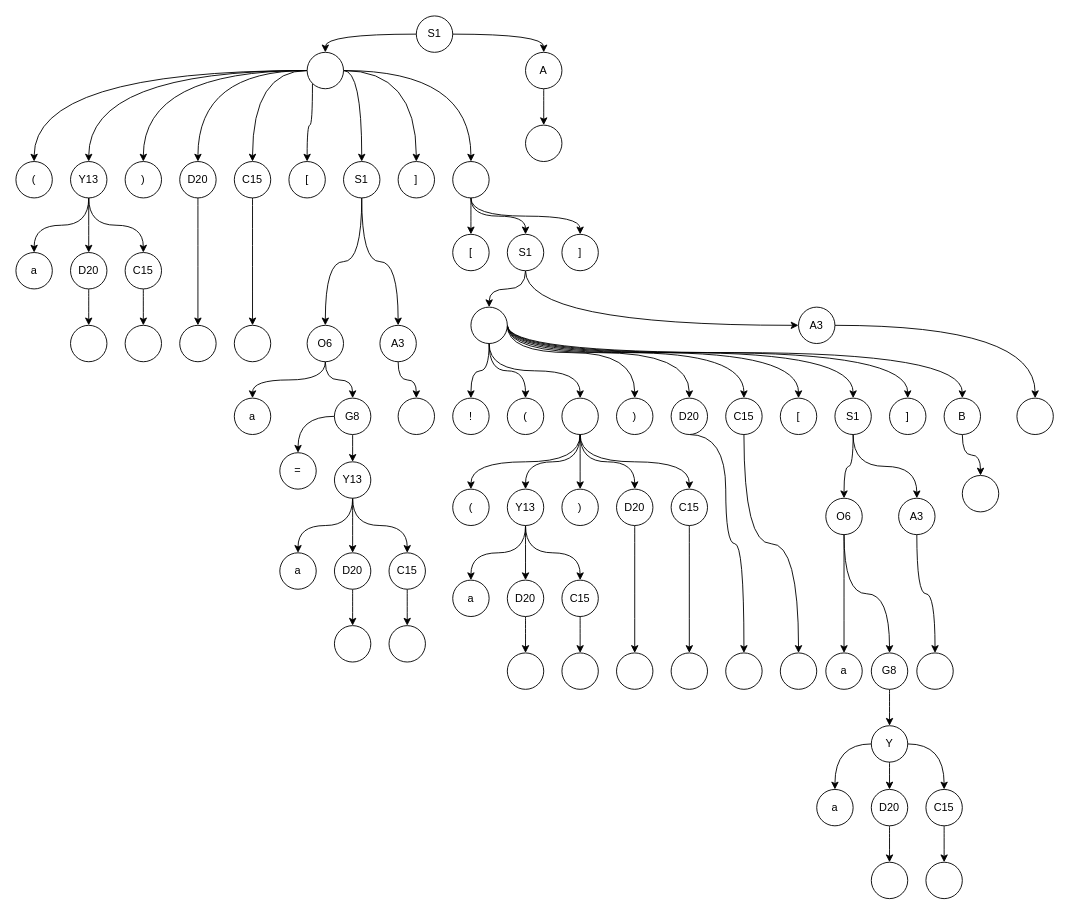
This 1069x915 diagram has some shape labels left out. The shapes that lost their labels are listed below. From the top down, each one's centre as x and y in pixels, then its label:
At [325,70]: "O4".
At [470,179]: "B9".
At [488,325]: "O5".
At [579,416]: "Y11".
